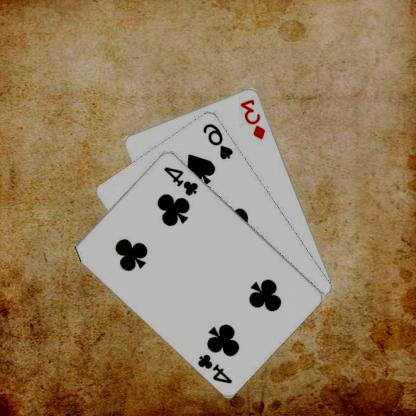3D: (239, 96, 269, 141)
4C: (162, 163, 202, 197), (197, 350, 236, 384)
6S: (202, 120, 236, 160)
